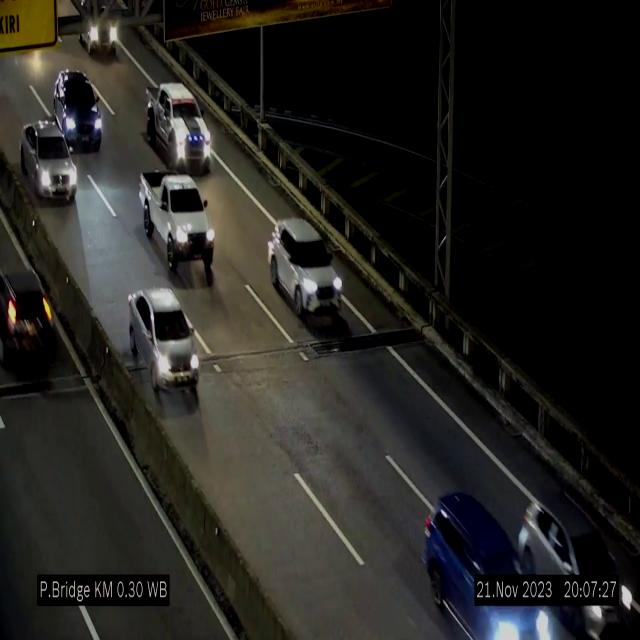Car: (414, 477, 554, 640), (519, 463, 631, 640), (0, 237, 70, 375), (139, 164, 215, 276), (130, 279, 200, 398), (268, 219, 344, 319), (147, 79, 220, 172), (21, 120, 77, 201), (51, 68, 104, 152)
